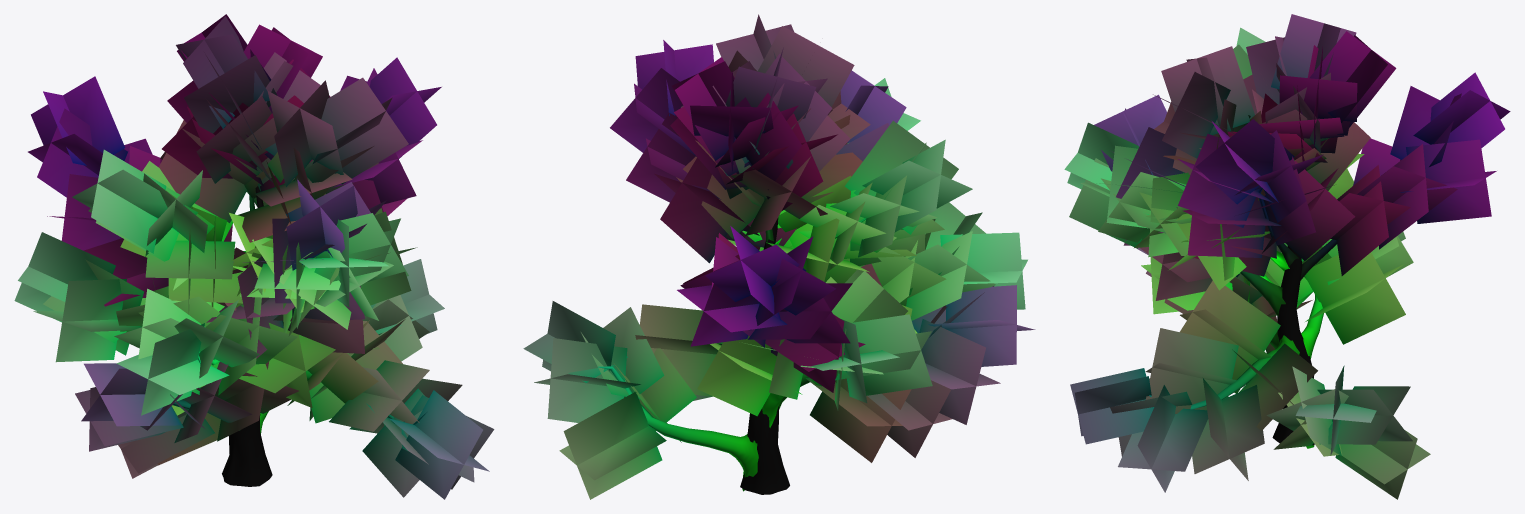
The model's file is M_P11_Tree_10.fbx.
3 renders of one model, left to right at view 1: azimuth 30°, elevation 25°; view 2: azimuth 150°, elevation 25°; view 3: azimuth 270°, elevation 25°, orthographic. The views are drawn at different scales.
Parts seen in each view (by area): view 1: Tree_10; view 2: Tree_10; view 3: Tree_10.
Part boxes in pixels (x1,y1,x2,y2): Tree_10: (14, 14, 494, 499); Tree_10: (523, 14, 1035, 499); Tree_10: (1064, 14, 1510, 499).
Bounding box in the file's own units: 603 × 624 × 597.
